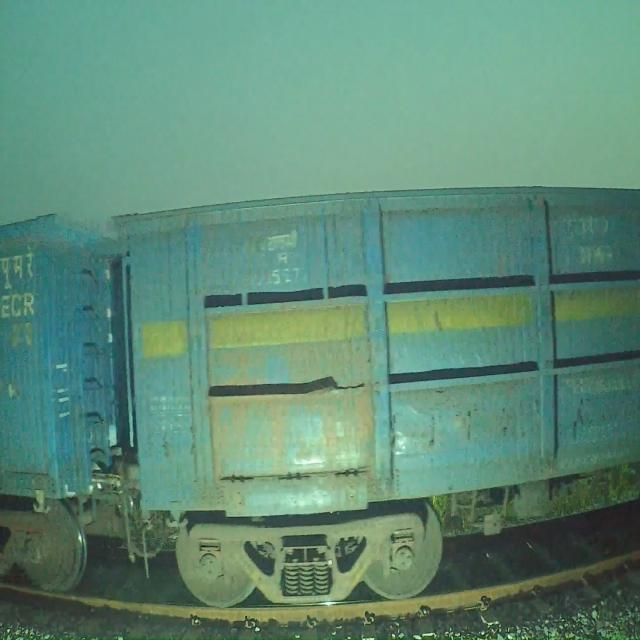WAgon-uic: (102, 182, 640, 612), (0, 205, 180, 599)
